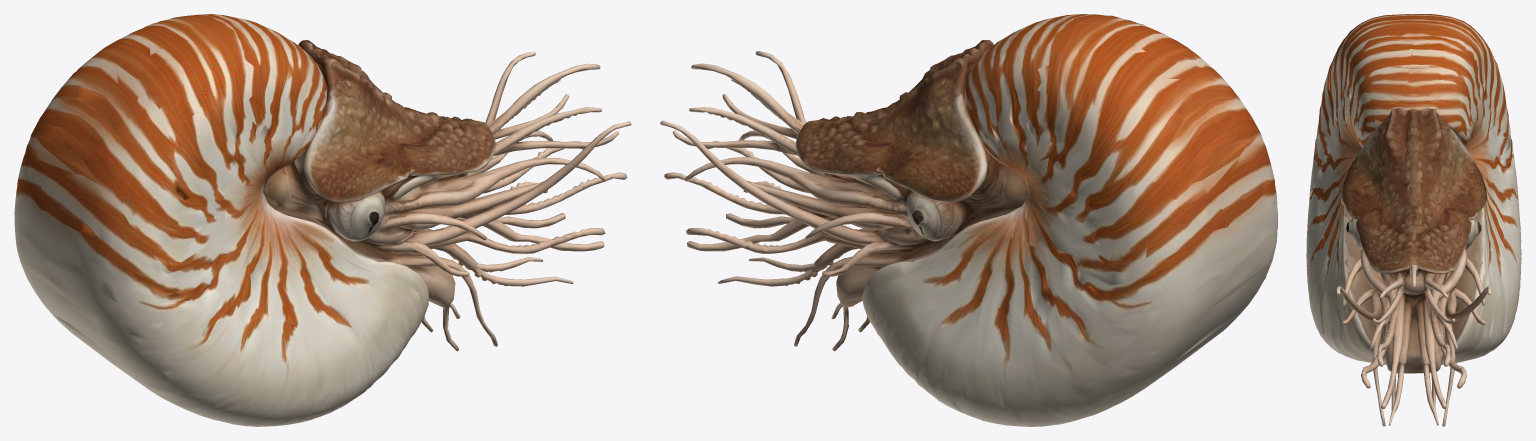
The model's file is nautilus.glb.
3 views of the same model, side by side, from view 1: azimuth 30°, elevation 25°; view 2: azimuth 150°, elevation 25°; view 3: azimuth 270°, elevation 25° (orthographic). The views are drawn at different scales.
Visible parts, largest first — view 1: tripo_node_bc4cf93f-fc88-498e-8980-a1a79011095c; view 2: tripo_node_bc4cf93f-fc88-498e-8980-a1a79011095c; view 3: tripo_node_bc4cf93f-fc88-498e-8980-a1a79011095c.
Boxes of the visible parts, bbox=[...] form: tripo_node_bc4cf93f-fc88-498e-8980-a1a79011095c: bbox=[14, 14, 631, 426]; tripo_node_bc4cf93f-fc88-498e-8980-a1a79011095c: bbox=[660, 14, 1277, 426]; tripo_node_bc4cf93f-fc88-498e-8980-a1a79011095c: bbox=[1306, 14, 1521, 426].
Bounding box in the file's own units: 0.9996 × 0.6491 × 0.4232.
Materials: 1 (1 with a texture image).
